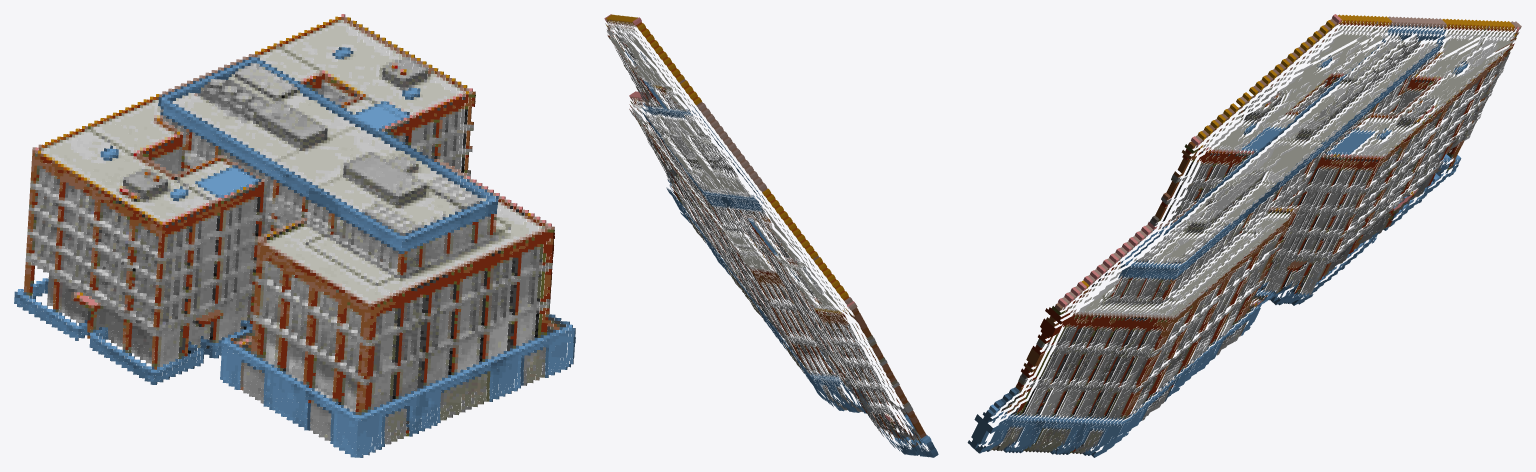
File: cgwash06_a.glb
The picture shows the model from 3 angles, left to right: view 1: azimuth 30°, elevation 25°; view 2: azimuth 150°, elevation 25°; view 3: azimuth 270°, elevation 25°; orthographic projection. The views are drawn at different scales.
Visible parts, largest first — view 1: cgwash06_a; view 2: cgwash06_a; view 3: cgwash06_a.
Part boxes in pixels (x1,y1,x2,y2): cgwash06_a: (14,14,575,457); cgwash06_a: (604,14,938,457); cgwash06_a: (967,14,1521,457).
Bounding box in the file's own units: 1.78 × 1.55 × 1.6.
